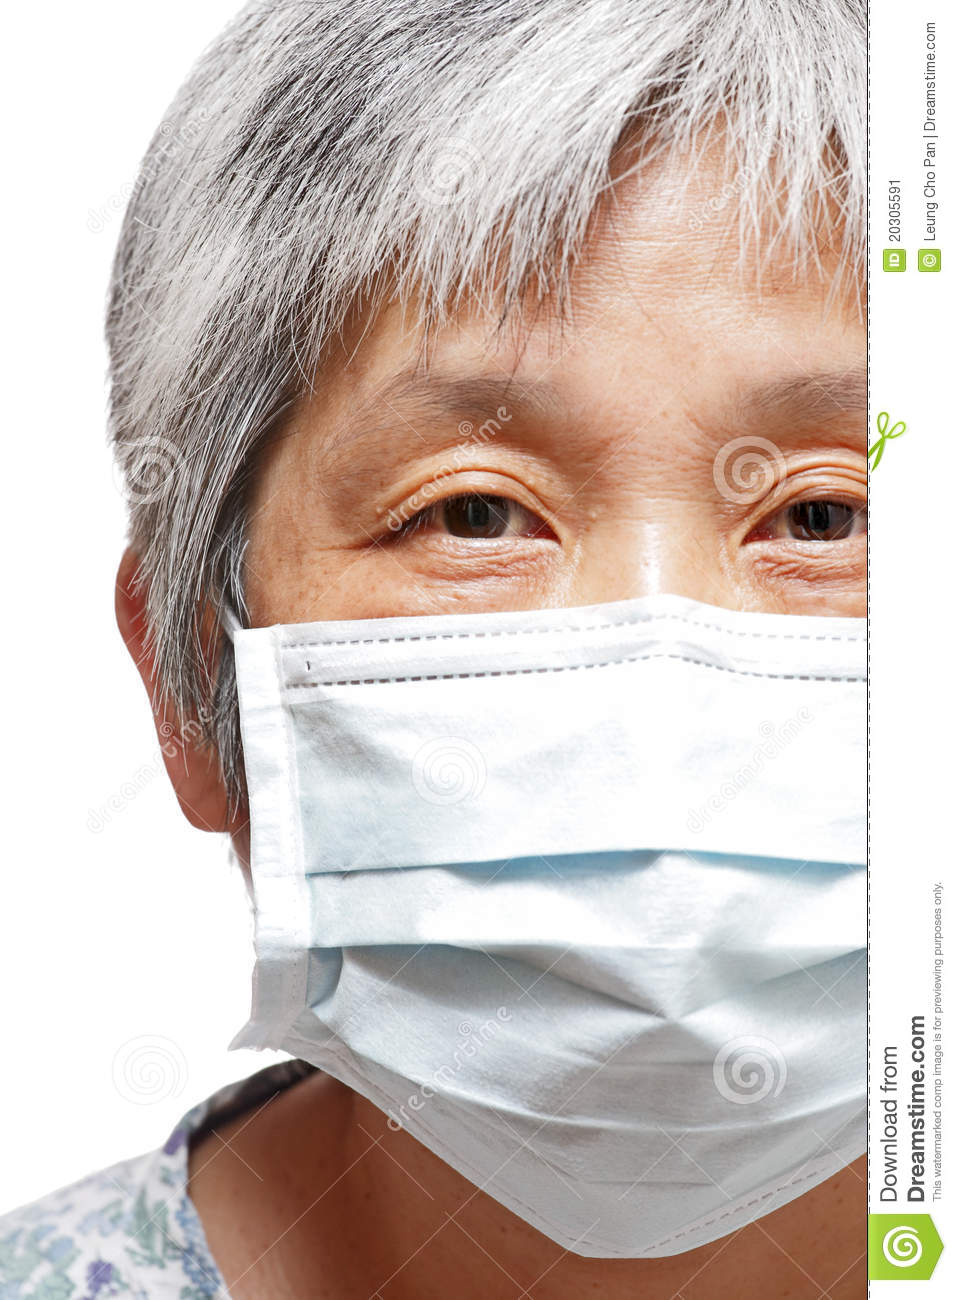mask: (236, 589, 869, 1270)
